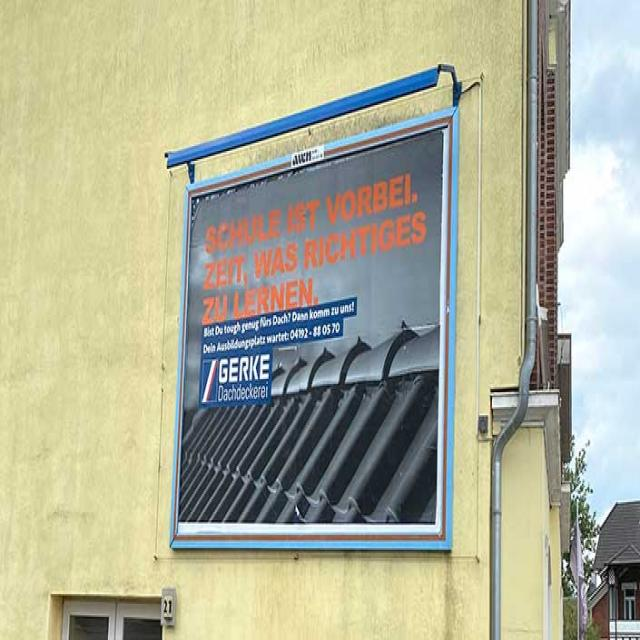Werbetafel frei: (161, 104, 468, 558)
